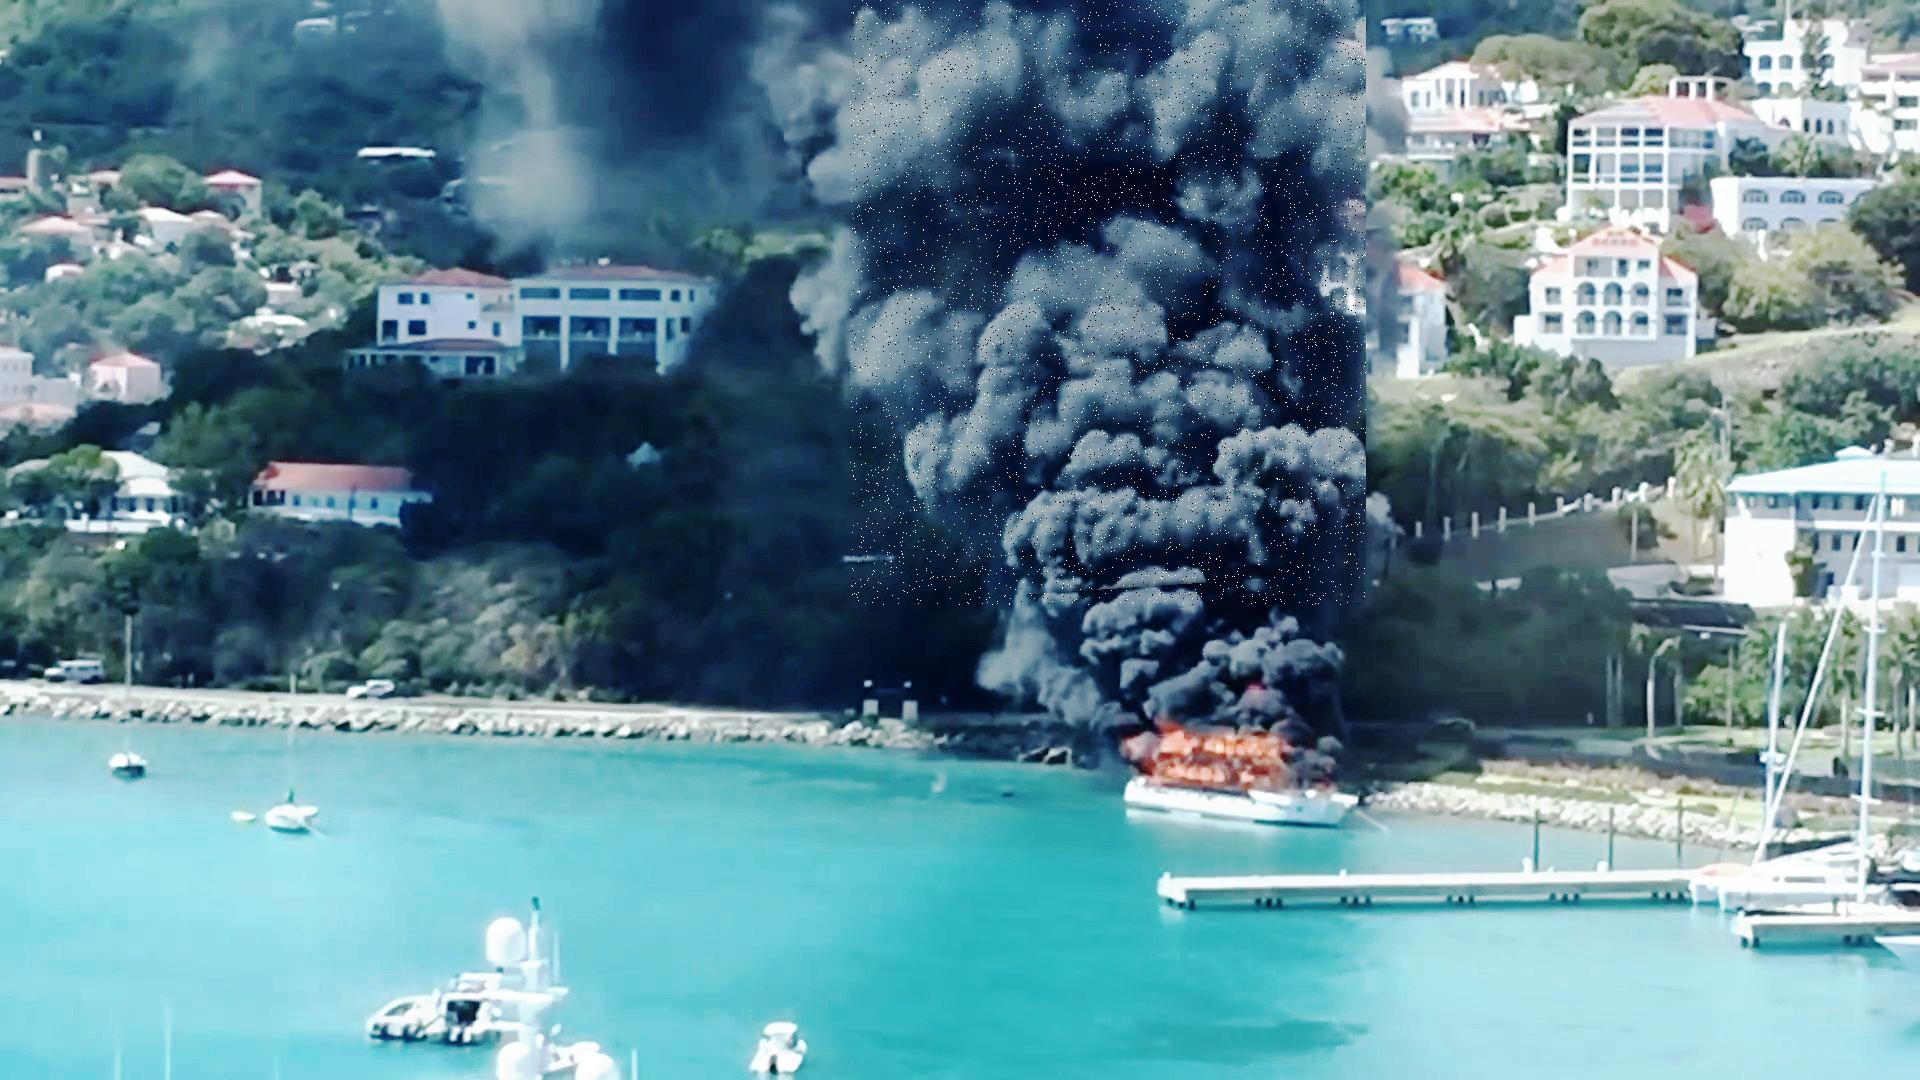smoke: (851, 0, 1366, 605)
